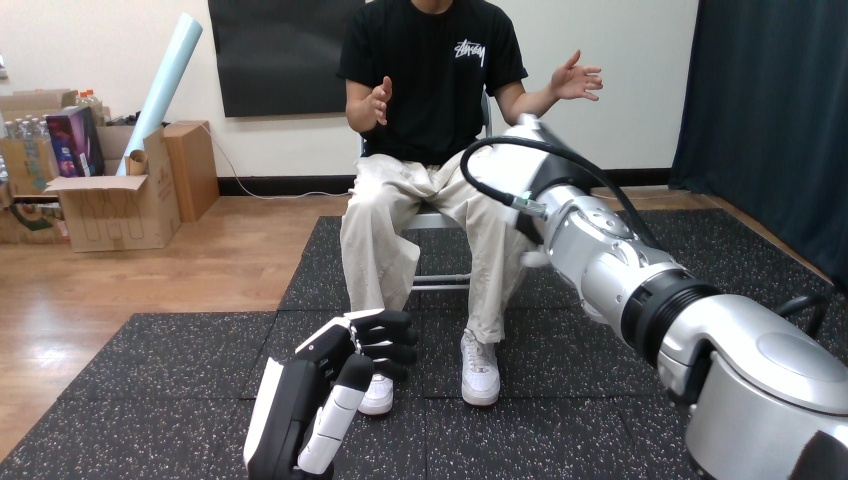left robot hand: (460, 114, 847, 478), (244, 309, 416, 479), (548, 50, 601, 100)
